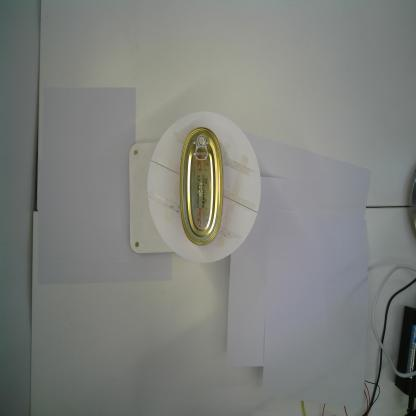Canned Food: (178, 126, 224, 248)
